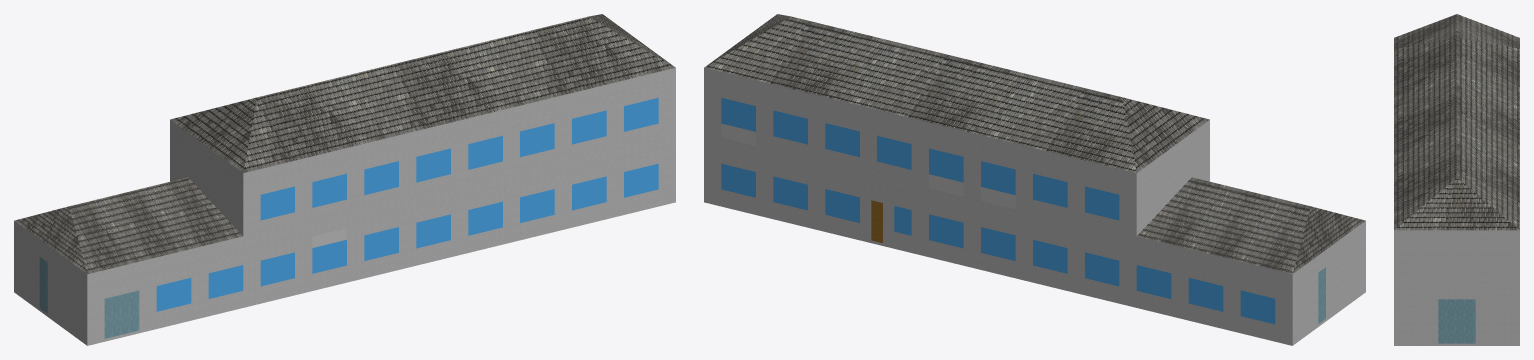
File: Chlorination_Room.glb
3 views of the same model, side by side, from view 1: azimuth 30°, elevation 25°; view 2: azimuth 150°, elevation 25°; view 3: azimuth 270°, elevation 25° (orthographic). The views are drawn at different scales.
Visible parts, largest first — view 1: Floor1, Roof; view 2: Floor1, Roof; view 3: Roof, Floor1.
Part boxes in pixels (x1=…): Floor1: x1=14, y1=67, x2=675, y2=345; Roof: x1=14, y1=14, x2=675, y2=276; Floor1: x1=704, y1=67, x2=1365, y2=345; Roof: x1=704, y1=14, x2=1365, y2=276; Roof: x1=1394, y1=14, x2=1519, y2=230; Floor1: x1=1394, y1=230, x2=1519, y2=345.
Bounding box in the file's own units: 42.97 × 11.96 × 9.28.
5 materials, 5 textured.
